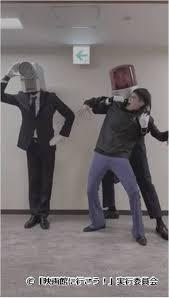no more kid: (18, 60, 47, 95)
